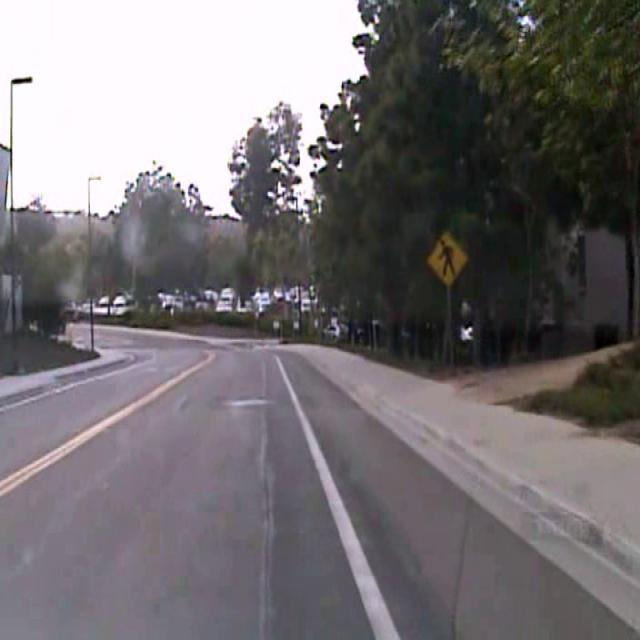pedestrianCrossing: (426, 228, 468, 287)
